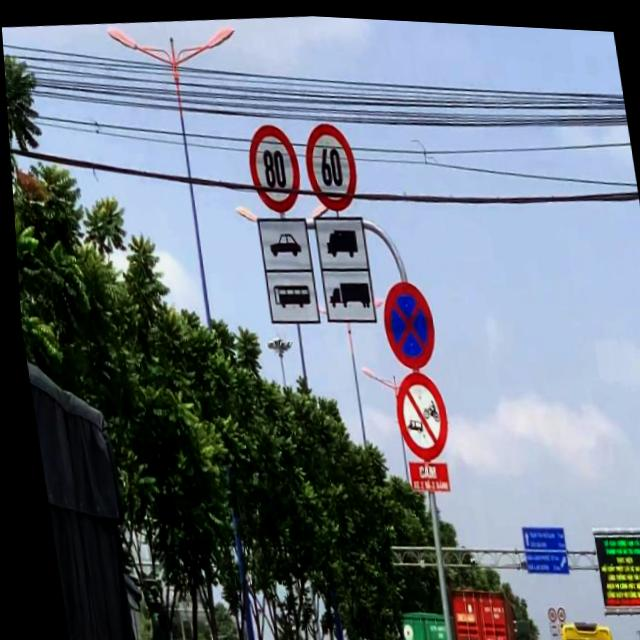Cam dung xe va do xe: (372, 271, 437, 371)
Toc do toi da cho phep: (240, 117, 304, 215), (296, 115, 360, 212)
